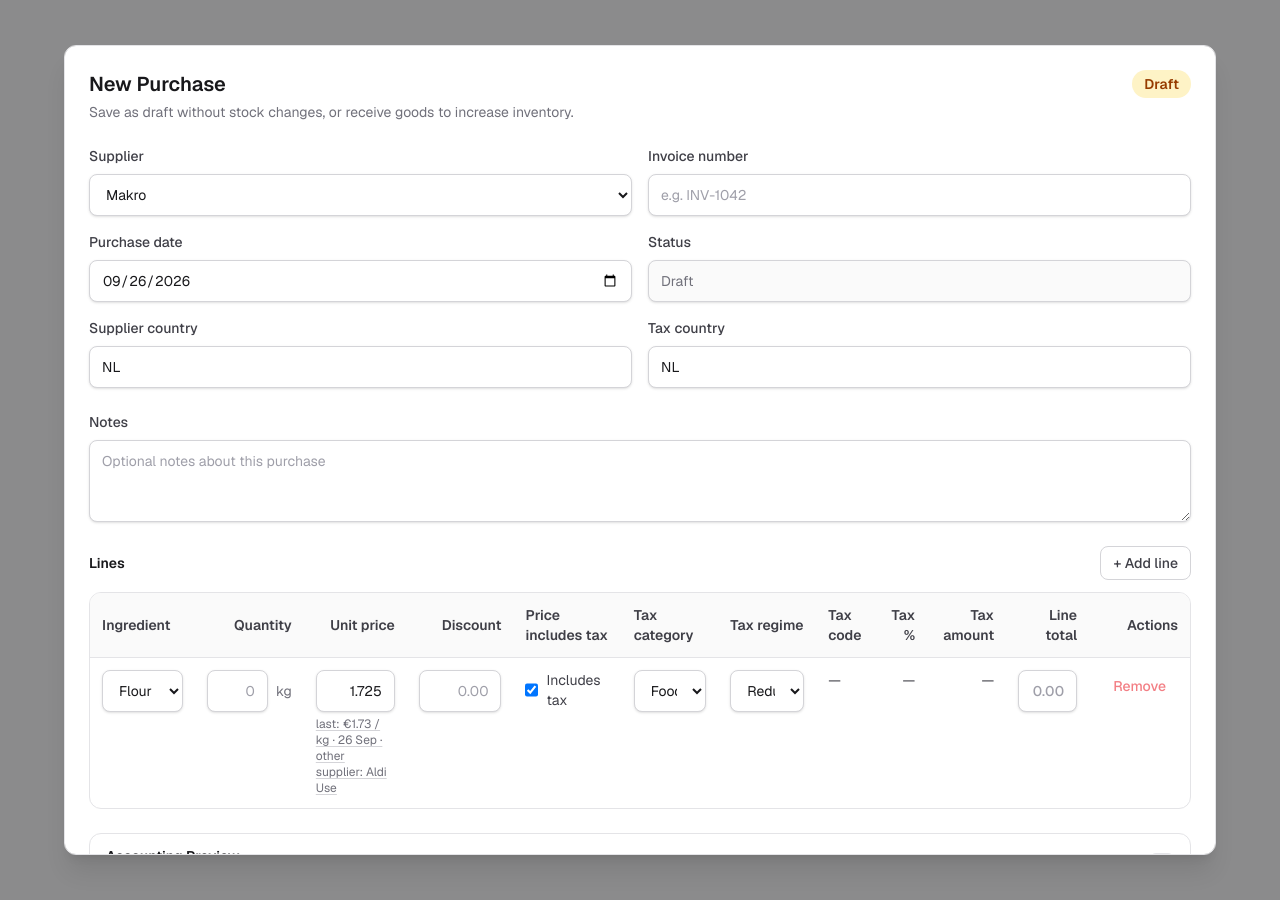
PurchaseDocumentModal last price › replaces a prefilled price after quantity and focusing the price field
Expected: the field named "Unit price" holds "1.725", [316,670,395,712]
In the field with placeholder "0": (238, 691) [207,670,268,712], type "1"
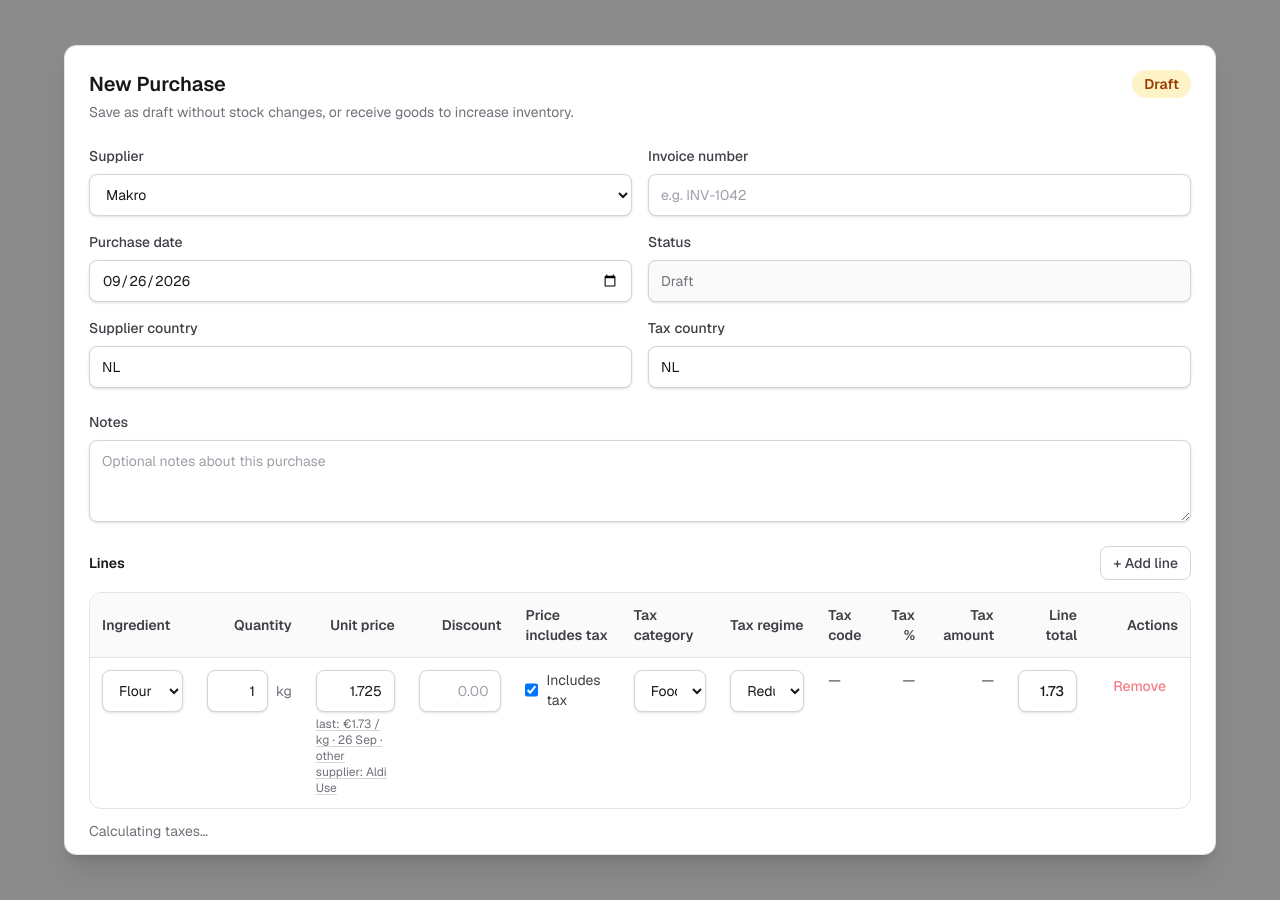
Expected: the field named "Line total" holds "1.73", [1018,670,1077,712]
Focus the field named "Unit price": (355, 691) [316,670,395,712]
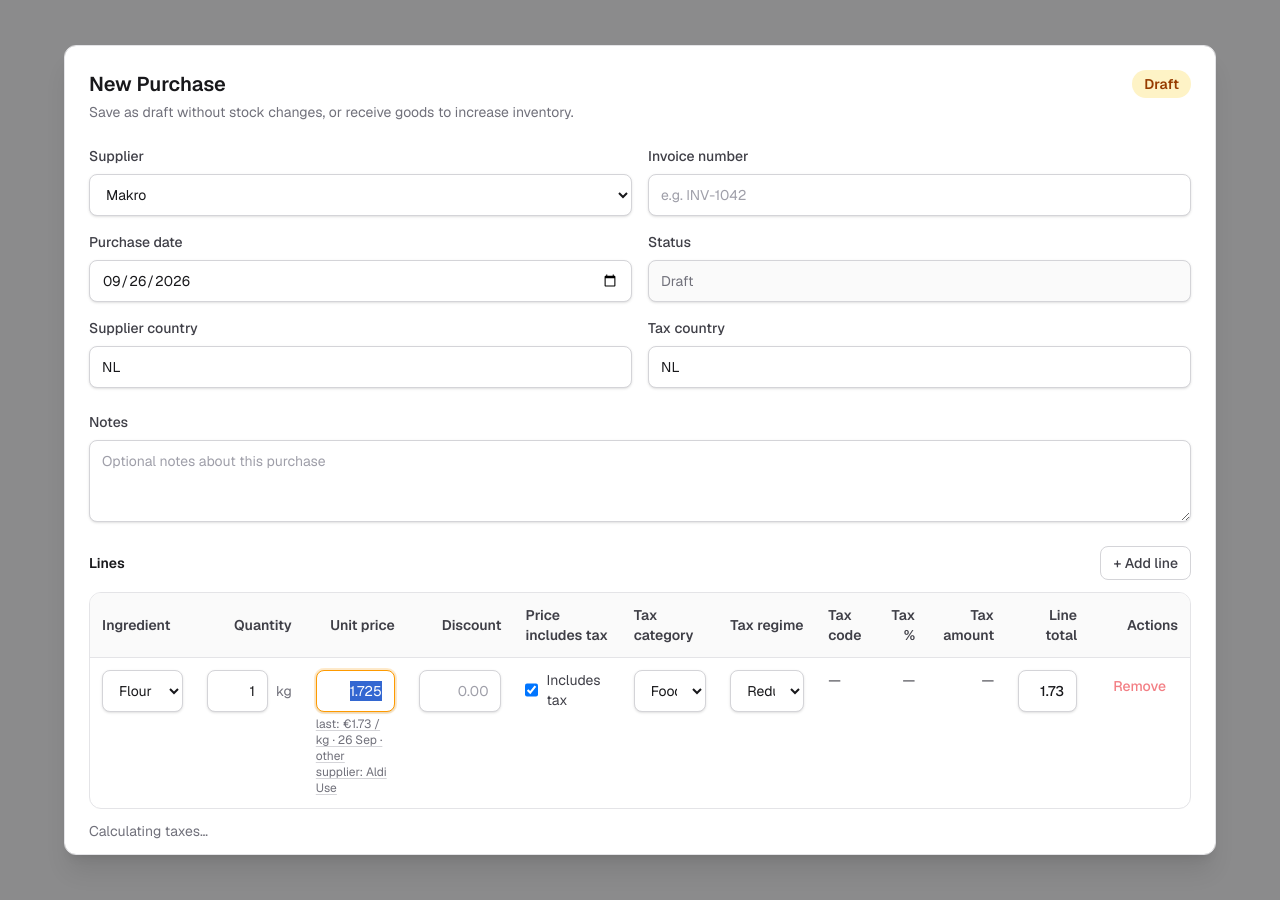
Select "Milk (L)" in the 2nd dropdown: (143, 691) [102,670,183,712]
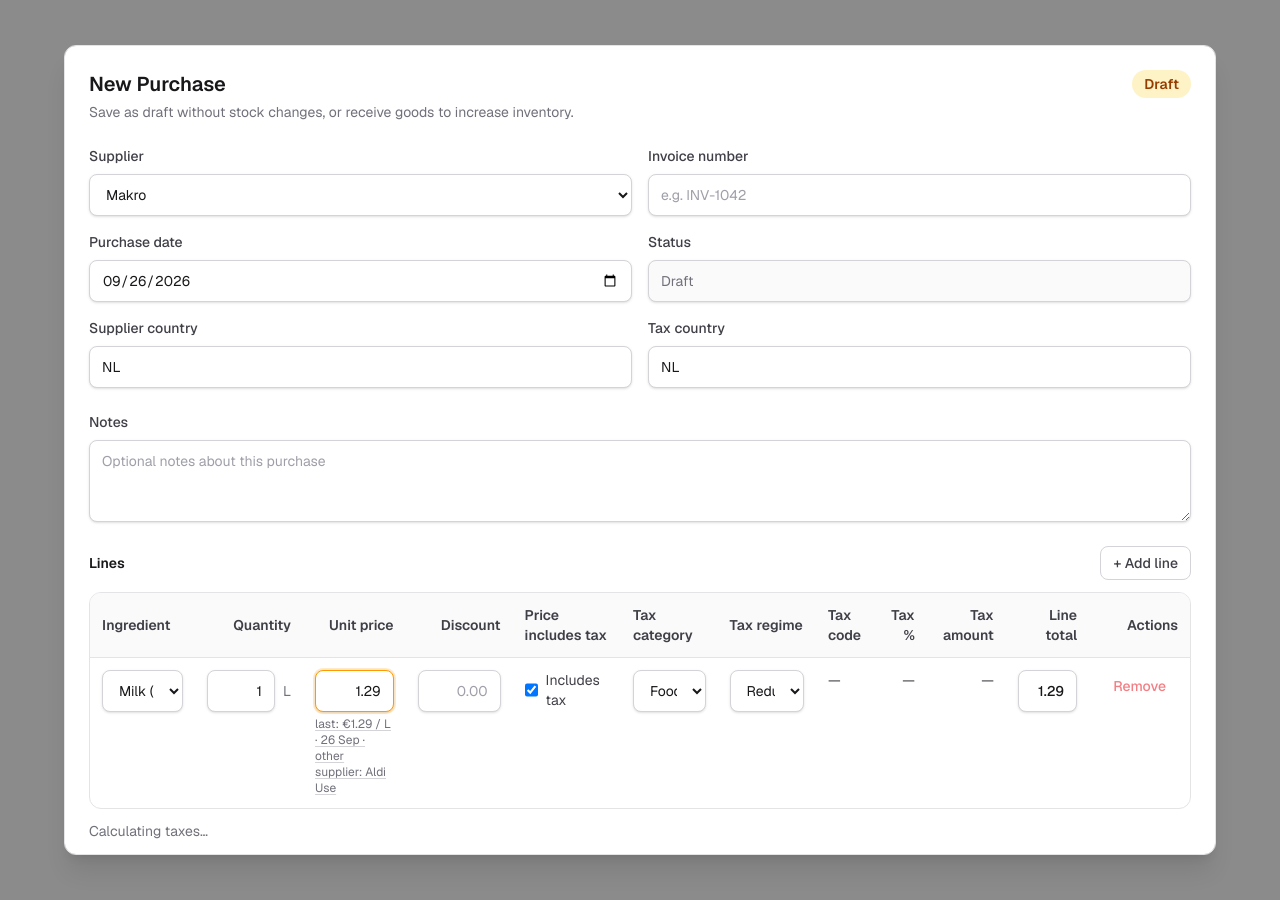
Expected: the button "last: €1.29 / L · 26 Sep · other supplier: Aldi Use" is shown, [315,716,394,796]
Expected: the field named "Unit price" holds "1.29", [315,670,394,712]
Expected: the field named "Line total" holds "1.29", [1018,670,1077,712]
